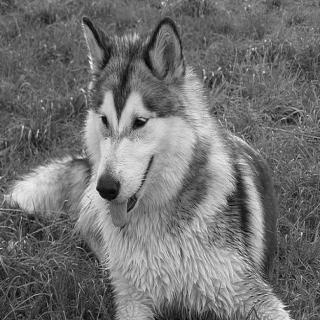dog: (68, 13, 188, 230)
nose: (91, 175, 123, 203)
